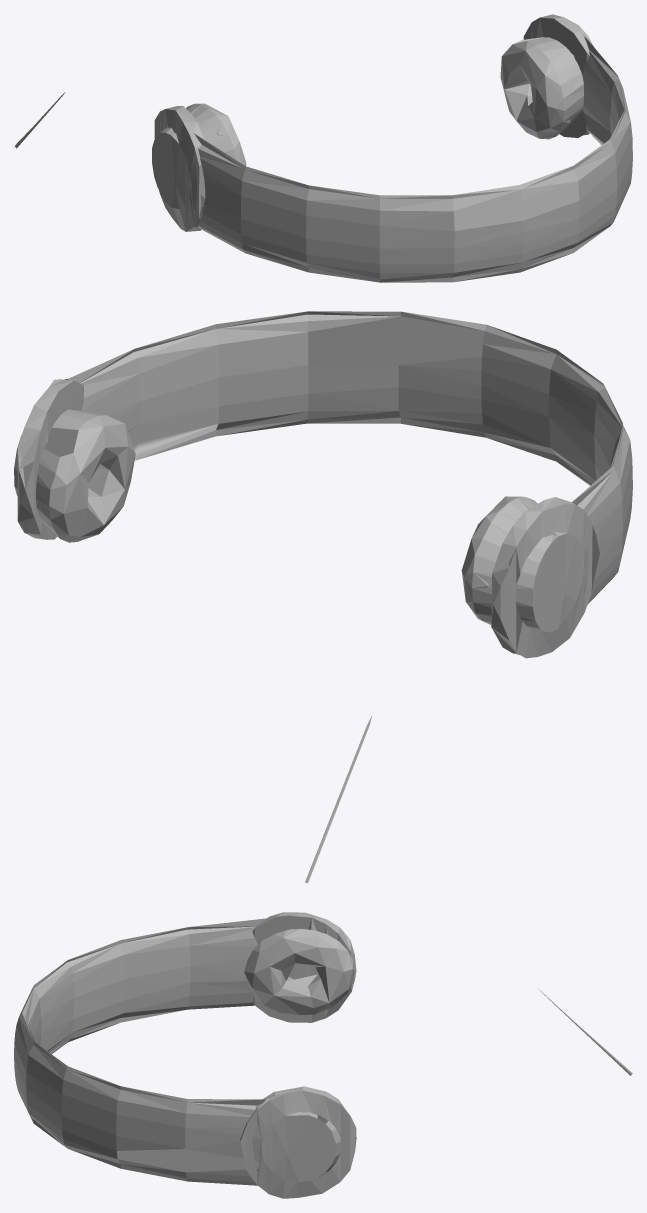
The model's file is model_align.obj.
The picture shows the model from 3 angles, top to bottom: view 1: azimuth 30°, elevation 25°; view 2: azimuth 150°, elevation 25°; view 3: azimuth 270°, elevation 25°; orthographic projection. The views are drawn at different scales.
Bounding box in the file's own units: 0.1124 × 0.0443 × 0.157.
